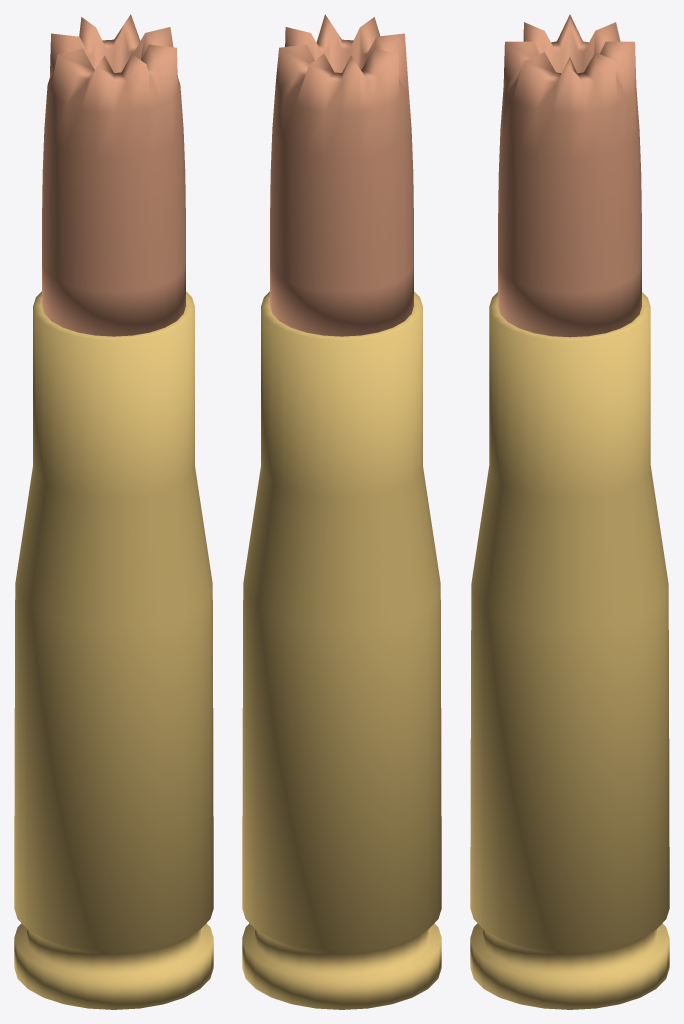
3 views of the same model, side by side, from view 1: azimuth 30°, elevation 25°; view 2: azimuth 150°, elevation 25°; view 3: azimuth 270°, elevation 25° (orthographic).
Visible parts, largest first — view 1: vaina, bala_flor; view 2: vaina, bala_flor; view 3: vaina, bala_flor.
Part boxes in pixels (x1=…): vaina: x1=14, y1=291, x2=213, y2=1009; bala_flor: x1=42, y1=14, x2=185, y2=336; vaina: x1=242, y1=291, x2=441, y2=1009; bala_flor: x1=270, y1=14, x2=413, y2=336; vaina: x1=470, y1=292, x2=669, y2=1009; bala_flor: x1=498, y1=14, x2=641, y2=337.
Bounding box in the file's own units: 0.0079 × 0.0405 × 0.0079.
